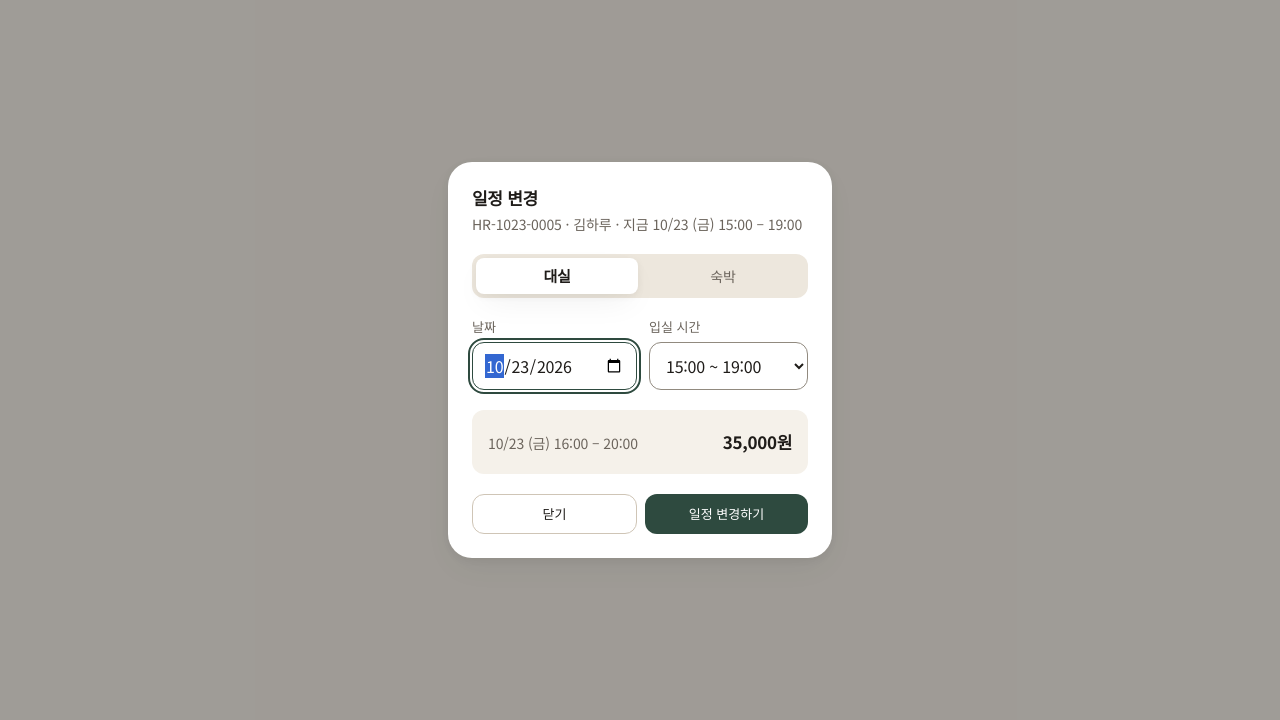
Test case: BookingDialog › shows a rejection from the server inside the dialog
The width and height of the screenshot is (1280, 720).
expect the text "35,000원" is shown: met, box left=723, top=430, right=792, bottom=454
Click the button "일정 변경하기".
click(726, 514)  # box left=645, top=494, right=808, bottom=534
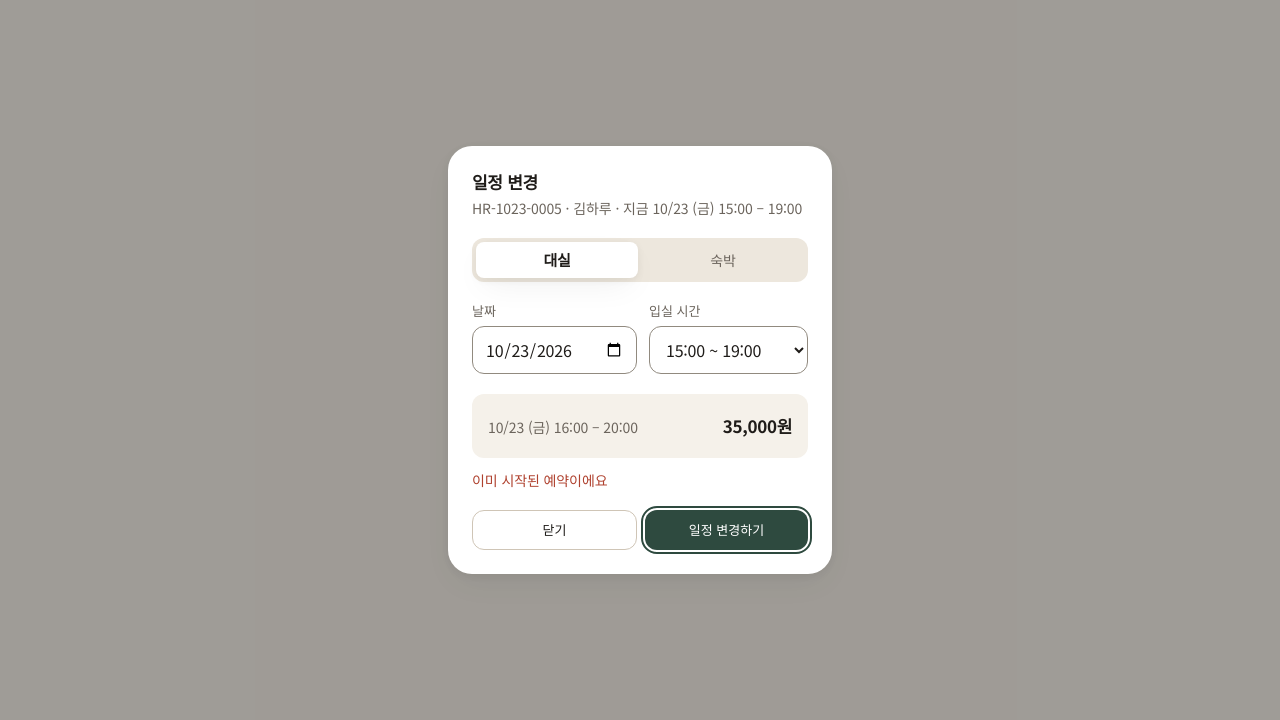
expect the message reads "이미 시작된 예약이에요": met, box left=472, top=470, right=608, bottom=490
